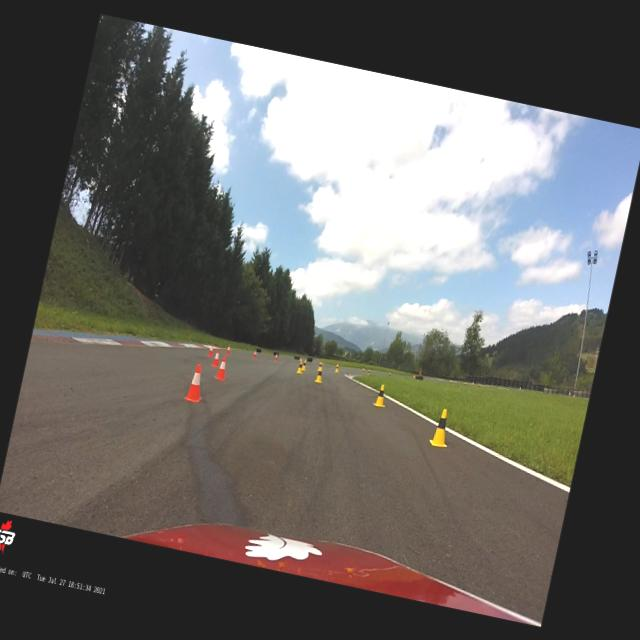orange_cone: (182, 362, 208, 403), (213, 354, 231, 381), (210, 347, 222, 367), (207, 342, 214, 357), (226, 344, 232, 355), (252, 350, 256, 358), (274, 352, 278, 360), (298, 358, 300, 363), (362, 368, 364, 372), (413, 374, 415, 378)
yellow_cone: (428, 406, 454, 448), (372, 382, 390, 408), (314, 366, 324, 384), (296, 360, 304, 374), (302, 359, 308, 371), (316, 361, 322, 372), (334, 363, 339, 372), (367, 368, 370, 374), (388, 372, 390, 377), (449, 381, 452, 384)
